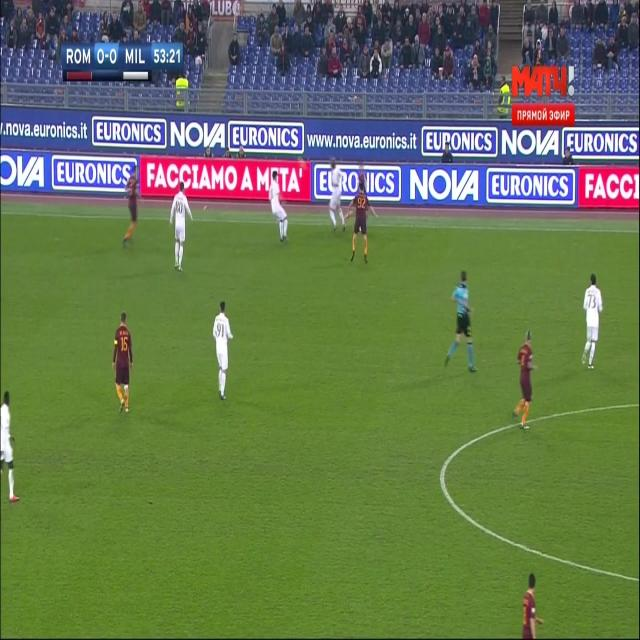Player: (348, 172, 380, 268), (510, 329, 539, 433), (580, 270, 606, 375), (211, 295, 236, 402), (111, 311, 135, 417), (168, 182, 195, 274), (1, 388, 22, 506), (120, 162, 142, 252), (267, 170, 292, 245), (518, 572, 545, 639), (325, 157, 347, 237)
Referee: (439, 268, 477, 376)
